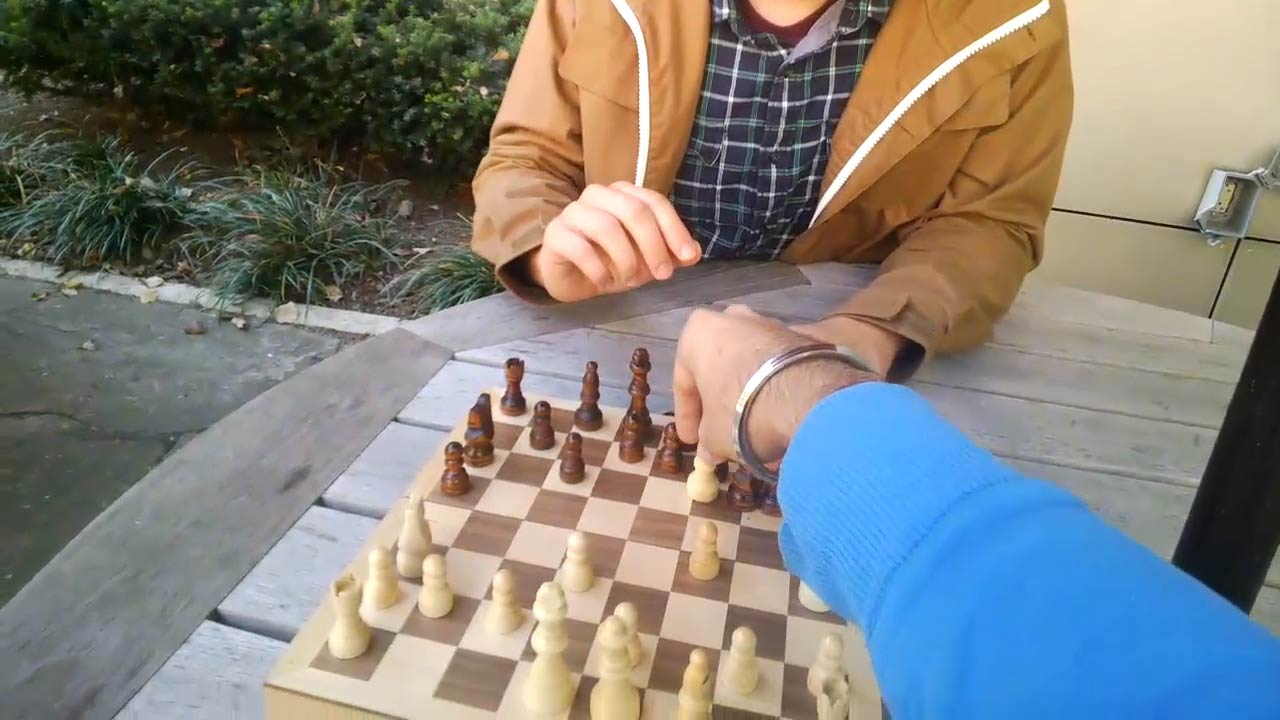hand: (675, 312, 823, 457), (542, 183, 700, 295), (798, 313, 901, 373)
